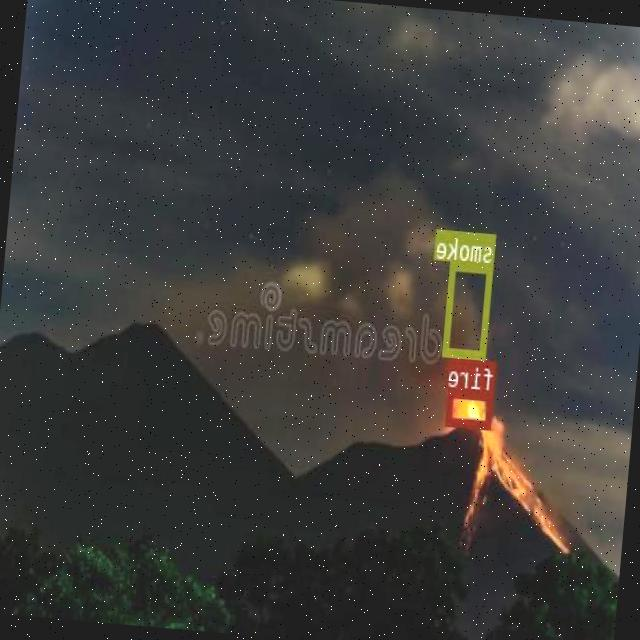fire: (446, 386, 494, 427)
smoke: (443, 260, 494, 358)
